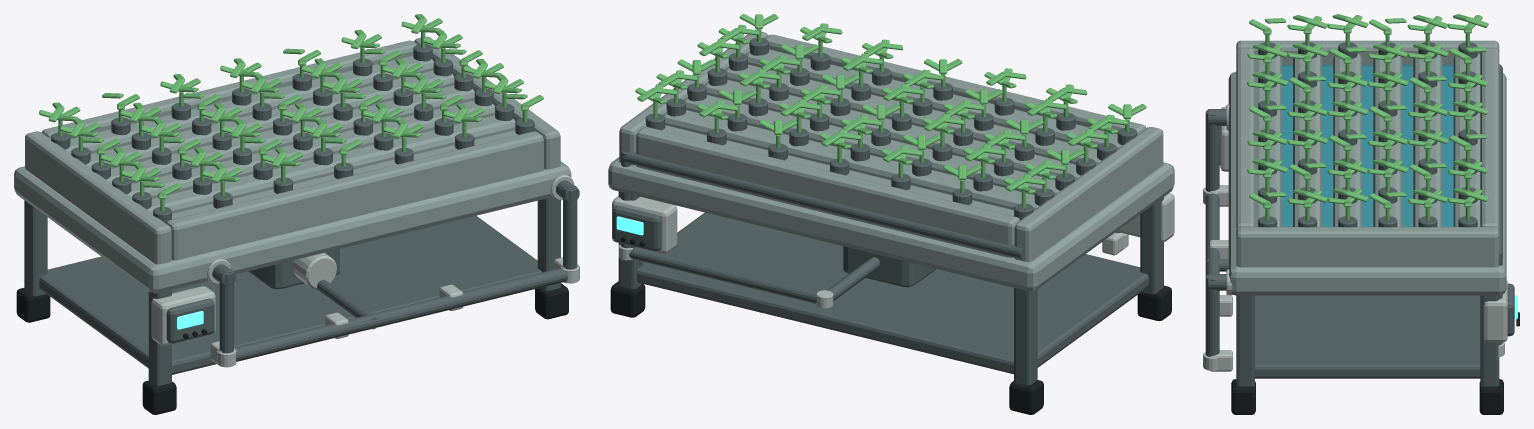
The model's file is 07_double_sided_culture_table.glb.
3 renders of one model, left to right at view 1: azimuth 30°, elevation 25°; view 2: azimuth 150°, elevation 25°; view 3: azimuth 270°, elevation 25°, orthographic. The views are drawn at different scales.
Visible parts, largest first — view 1: 07_double_sided_culture_table_Lower_Frame, 07_double_sided_culture_table_Basin_Wall_Front, 07_double_sided_culture_table_Top_Frame, 07_double_sided_culture_table_Front_Circulation_Loop_Segment (×3), 07_double_sided_culture_table_Basin_Wall_Left, 07_double_sided_culture_table_NFT_Channel_2, 07_double_sided_culture_table_NFT_Channel_5, 07_double_sided_culture_table_NFT_Channel_4, 07_double_sided_culture_table_NFT_Channel_3, 07_double_sided_culture_table_NFT_Channel_6, 07_double_sided_culture_table_Basin_Wall_Rear, 07_double_sided_culture_table_Leg_-1_1 (+12 smaller); view 2: 07_double_sided_culture_table_Lower_Frame, 07_double_sided_culture_table_Top_Frame, 07_double_sided_culture_table_Basin_Wall_Rear, 07_double_sided_culture_table_Basin_Wall_Left, 07_double_sided_culture_table_NFT_Channel_5, 07_double_sided_culture_table_Rear_Manifold, 07_double_sided_culture_table_NFT_Channel_2, 07_double_sided_culture_table_NFT_Channel_3, 07_double_sided_culture_table_NFT_Channel_1, 07_double_sided_culture_table_NFT_Channel_4, 07_double_sided_culture_table_Basin_Wall_Front, 07_double_sided_culture_table_Rear_Return_To_Motor_Segment_2 (+13 smaller); view 3: 07_double_sided_culture_table_Lower_Frame, 07_double_sided_culture_table_Basin_Wall_Right, 07_double_sided_culture_table_Top_Frame, 07_double_sided_culture_table_Water_Surface, 07_double_sided_culture_table_Basin_Wall_Rear, 07_double_sided_culture_table_Basin_Wall_Front, 07_double_sided_culture_table_Front_Circulation_Loop_Segment (×3), 07_double_sided_culture_table_NFT_Channel_4, 07_double_sided_culture_table_NFT_Channel_5, 07_double_sided_culture_table_NFT_Channel_2, 07_double_sided_culture_table_NFT_Channel_3, 07_double_sided_culture_table_NFT_Channel_6 (+14 smaller).
Part boxes in pixels (x1,y1,x2,y2): 07_double_sided_culture_table_Lower_Frame: (39, 215, 541, 374); 07_double_sided_culture_table_Basin_Wall_Front: (166, 131, 543, 260); 07_double_sided_culture_table_Top_Frame: (14, 161, 571, 293); 07_double_sided_culture_table_Front_Circulation_Loop_Segment (×3): (219, 185, 577, 361); 07_double_sided_culture_table_Basin_Wall_Left: (25, 131, 171, 264); 07_double_sided_culture_table_NFT_Channel_2: (147, 114, 515, 213); 07_double_sided_culture_table_NFT_Channel_5: (86, 70, 454, 168); 07_double_sided_culture_table_NFT_Channel_4: (106, 85, 474, 183); 07_double_sided_culture_table_NFT_Channel_3: (126, 100, 494, 198); 07_double_sided_culture_table_NFT_Channel_6: (65, 55, 433, 153); 07_double_sided_culture_table_Basin_Wall_Rear: (42, 40, 417, 138); 07_double_sided_culture_table_Leg_-1_1: (24, 200, 47, 296); 07_double_sided_culture_table_Lower_Frame: (637, 212, 1148, 374); 07_double_sided_culture_table_Top_Frame: (608, 157, 1174, 291); 07_double_sided_culture_table_Basin_Wall_Rear: (636, 127, 1019, 257); 07_double_sided_culture_table_Basin_Wall_Left: (1014, 127, 1163, 261); 07_double_sided_culture_table_NFT_Channel_5: (665, 110, 1039, 210); 07_double_sided_culture_table_Rear_Manifold: (622, 151, 1022, 259); 07_double_sided_culture_table_NFT_Channel_2: (727, 64, 1101, 164); 07_double_sided_culture_table_NFT_Channel_3: (706, 79, 1080, 179); 07_double_sided_culture_table_NFT_Channel_1: (748, 49, 1122, 149); 07_double_sided_culture_table_NFT_Channel_4: (685, 95, 1059, 195); 07_double_sided_culture_table_Basin_Wall_Front: (764, 34, 1146, 134); 07_double_sided_culture_table_Rear_Return_To_Motor_Segment_2: (629, 247, 818, 303); 07_double_sided_culture_table_Lower_Frame: (1255, 295, 1480, 378); 07_double_sided_culture_table_Basin_Wall_Right: (1236, 227, 1499, 267); 07_double_sided_culture_table_Top_Frame: (1228, 72, 1506, 295); 07_double_sided_culture_table_Water_Surface: (1282, 65, 1453, 226); 07_double_sided_culture_table_Basin_Wall_Rear: (1480, 48, 1499, 230); 07_double_sided_culture_table_Basin_Wall_Front: (1236, 48, 1254, 230); 07_double_sided_culture_table_Front_Circulation_Loop_Segment (×3): (1205, 110, 1219, 356); 07_double_sided_culture_table_NFT_Channel_4: (1373, 54, 1402, 226); 07_double_sided_culture_table_NFT_Channel_5: (1413, 54, 1442, 226); 07_double_sided_culture_table_NFT_Channel_2: (1293, 54, 1321, 226); 07_double_sided_culture_table_NFT_Channel_3: (1333, 53, 1361, 226); 07_double_sided_culture_table_NFT_Channel_6: (1453, 54, 1480, 226).
Bounding box in the file's own units: 2.55 × 1.24 × 1.69.
